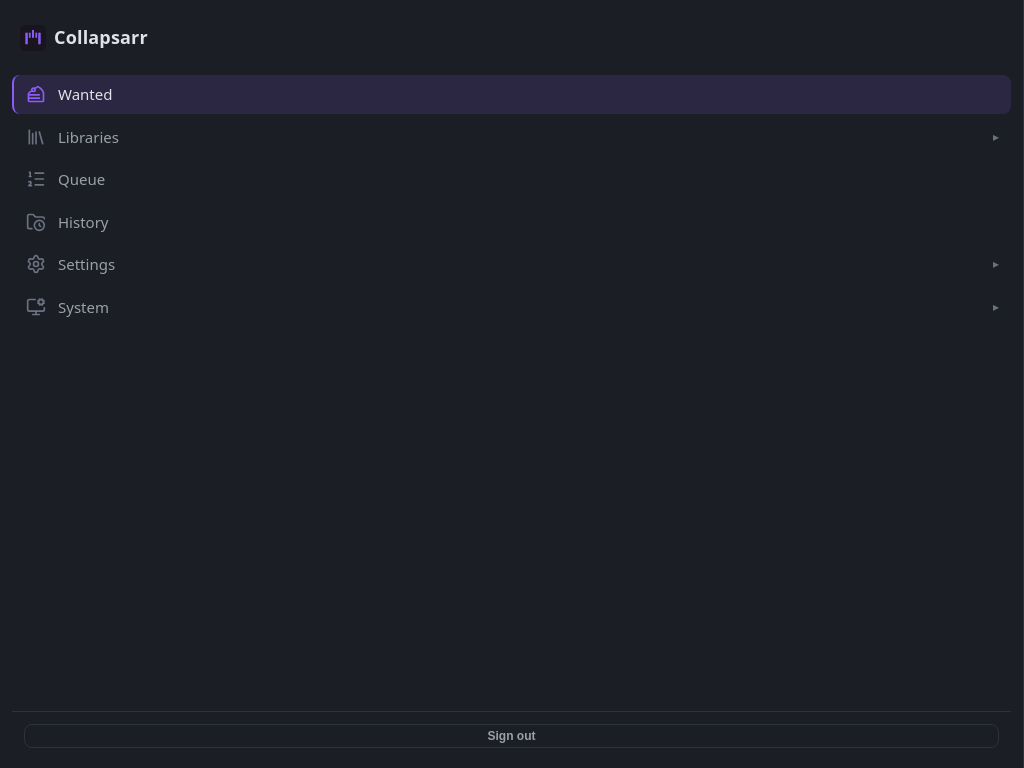
Libraries sidebar nav (COL-100) › expands to one sub-item per configured instance when Libraries is selected
Click the link "Libraries ▸": (88, 136) [26,126,999,147]
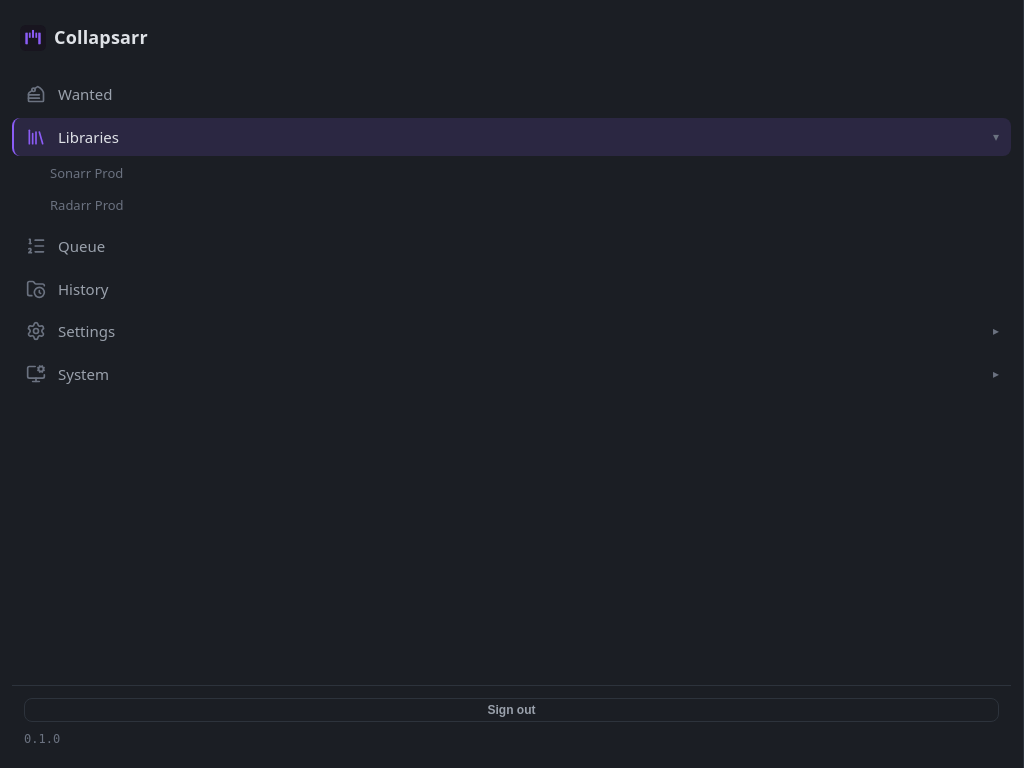
Check: the link "Sonarr Prod" is shown, box [50,164,123,182]
Check: the link "Radarr Prod" is shown, box [50,196,124,214]
